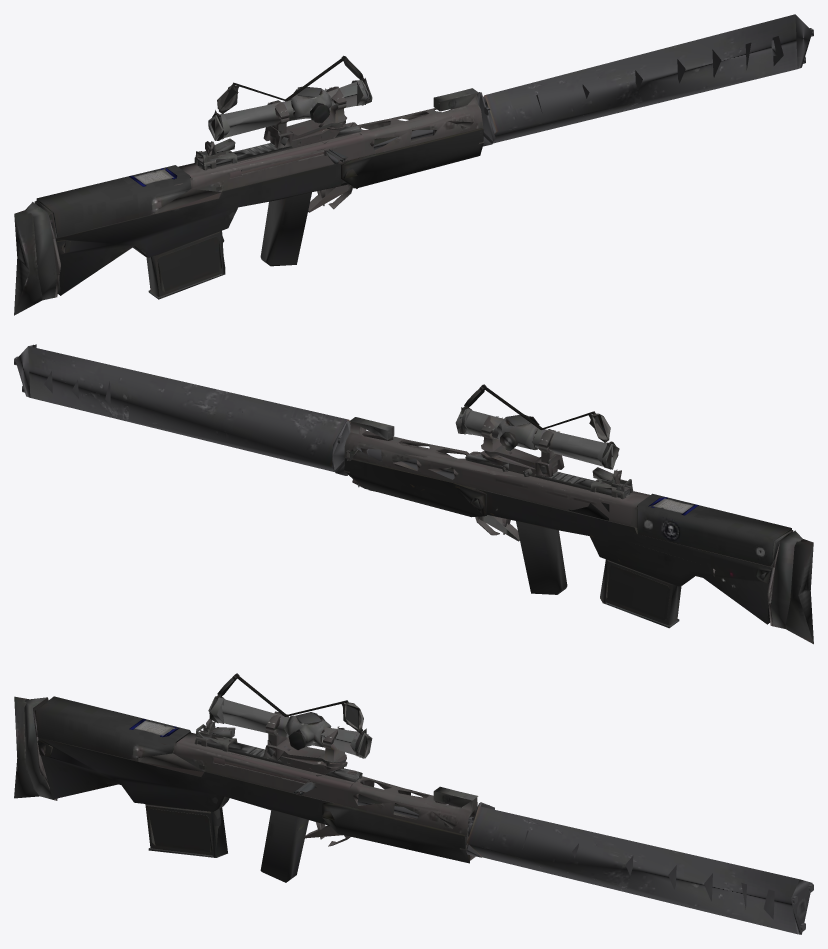
File: vssk_lod1.glb
3 renders of one model, top to bottom at view 1: azimuth 30°, elevation 25°; view 2: azimuth 150°, elevation 25°; view 3: azimuth 330°, elevation 25°, orthographic.
Visible parts, largest first — view 1: base_2, base, base_5, base_7, scope_2, mag, base_4, base_6; view 2: base_2, base, base_5, base_7, scope_2, mag, base_6, base_3; view 3: base_2, base, base_7, base_5, scope_2, mag, base_4, base_6.
Part boxes in pixels (box(x1,y1,x2,y2)): base_2: box(329, 14, 813, 165); base: box(51, 128, 483, 295); base_5: box(14, 165, 348, 315); base_7: box(34, 94, 483, 238); scope_2: box(208, 55, 372, 148); mag: box(146, 231, 225, 299); base_4: box(160, 133, 364, 212); base_6: box(198, 88, 478, 159); base_2: box(14, 344, 503, 495); base: box(344, 457, 773, 624); base_5: box(479, 493, 813, 644); base_7: box(344, 422, 793, 566); scope_2: box(455, 384, 619, 477); mag: box(600, 559, 681, 628); base_6: box(349, 417, 629, 487); base_3: box(410, 484, 698, 561); base_2: box(310, 797, 813, 934); base: box(37, 737, 469, 882); base_7: box(34, 704, 477, 850); base_5: box(14, 696, 342, 838); scope_2: box(208, 673, 372, 774); mag: box(145, 804, 227, 857); base_4: box(142, 752, 475, 860); base_6: box(199, 719, 478, 807).
Size of the model in its own units: 1.12 by 0.2602 by 0.0895.
9 materials, 8 textured.
